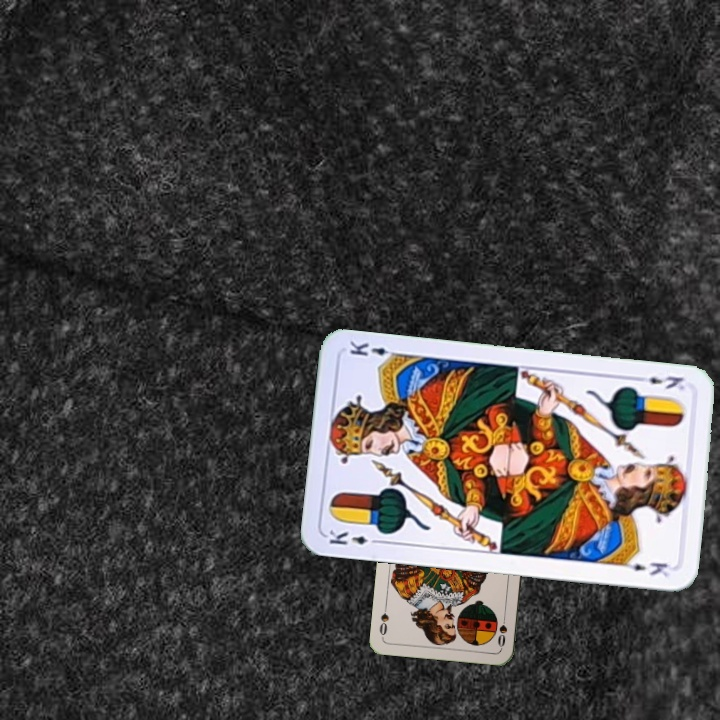EK: (325, 525, 384, 548), (632, 372, 687, 392)
SO: (493, 609, 510, 650)
